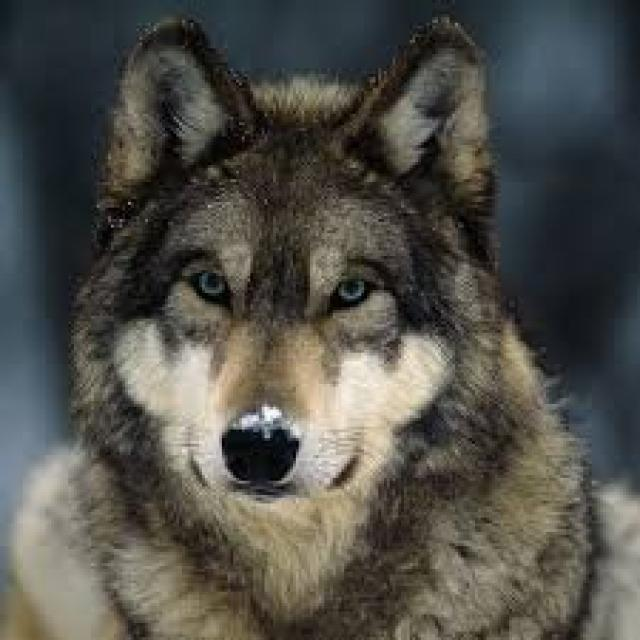Wolf: (0, 9, 637, 637)
